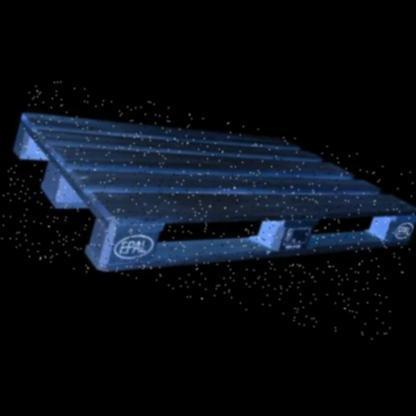pallet: (6, 110, 412, 276)
